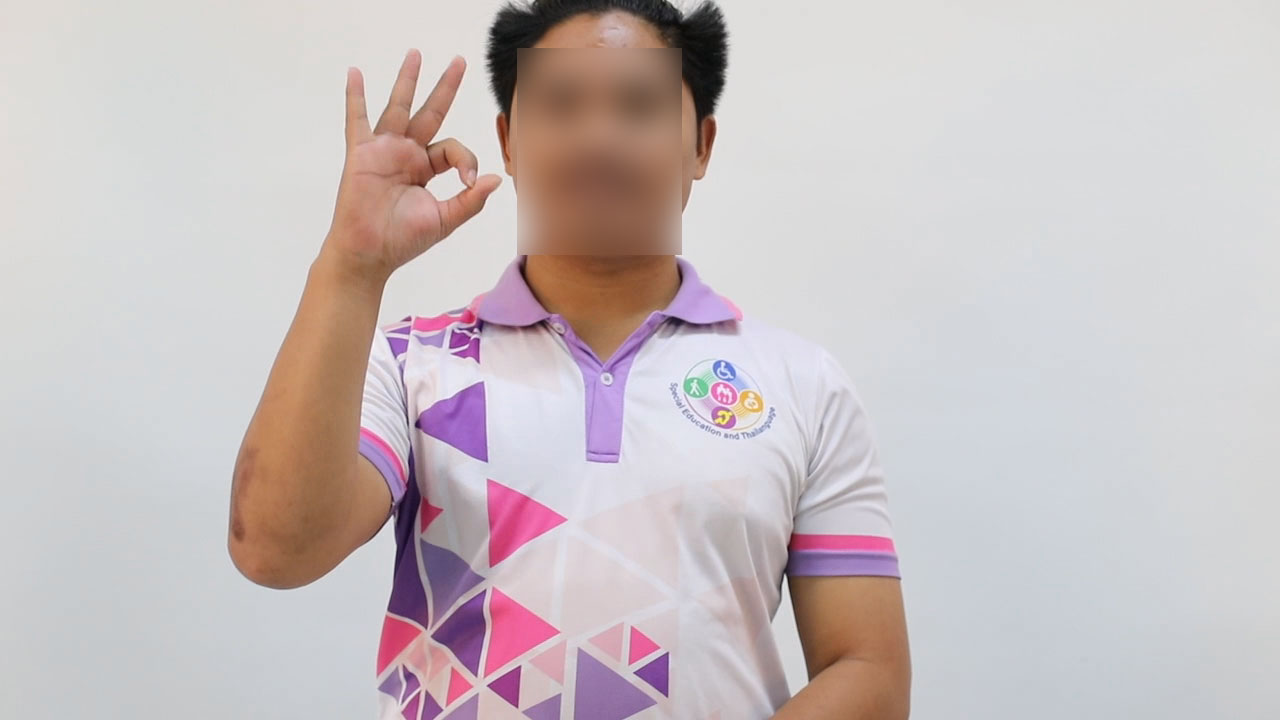for: (295, 39, 507, 289)
